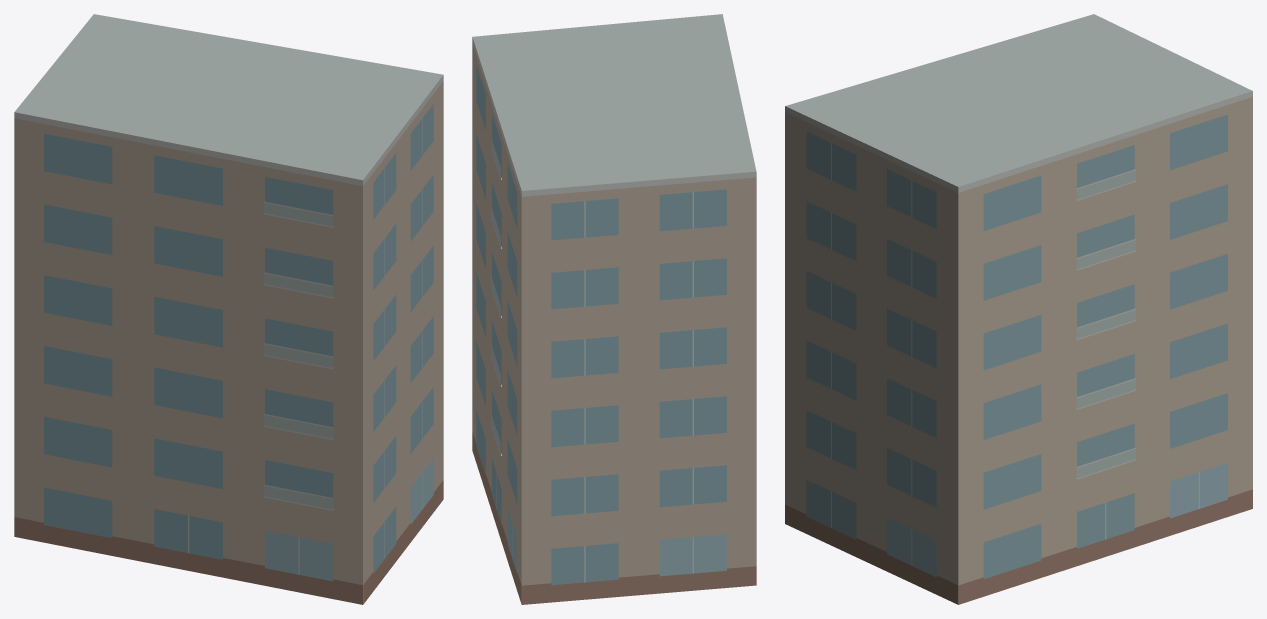
The model's file is survey-upis-32681259.glb.
3 views of the same model, side by side, from view 1: azimuth 30°, elevation 25°; view 2: azimuth 150°, elevation 25°; view 3: azimuth 270°, elevation 25° (orthographic). The views are drawn at different scales.
Visible parts, largest first — view 1: survey-upis-32681259.tmp; view 2: survey-upis-32681259.tmp; view 3: survey-upis-32681259.tmp.
Boxes of the visible parts, x1=… form: survey-upis-32681259.tmp: x1=14, y1=14, x2=443, y2=604; survey-upis-32681259.tmp: x1=472, y1=14, x2=756, y2=604; survey-upis-32681259.tmp: x1=785, y1=14, x2=1252, y2=604.
Size of the model in its own units: 15.37 by 17.3 by 17.56.
